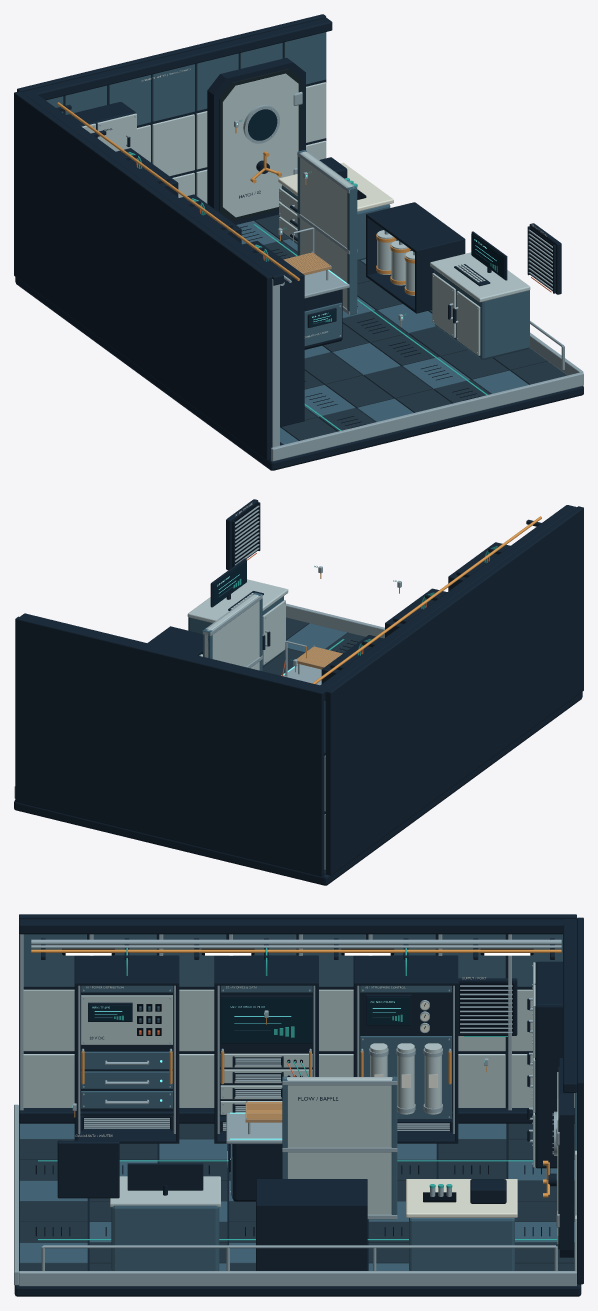
The model's file is crossflow.glb.
3 renders of one model, top to bottom at view 1: azimuth 30°, elevation 25°; view 2: azimuth 150°, elevation 25°; view 3: azimuth 270°, elevation 25°, orthographic. The views are drawn at different scales.
Parts seen in each view (by area): view 1: port_shell_backing, hatch_door, floor_substructure, front_cut_edge, flow_baffle_panel, aft_crown_rail, rack_sidewall, console_pedestal, hatch_outer_coaming, port_crown_rail, fluid_bay_end.001, aft_shell_backing (+52 smaller); view 2: aft_shell_backing, port_shell_backing, floor_substructure, port_crown_rail, flow_baffle_panel, aft_crown_rail, console_worktop, front_cut_edge, console_access_door.001, floor_tile.048, fluid_bay_end.001, longitudinal_service_conduit.002 (+7 smaller); view 3: flow_baffle_panel, starboard_cut_edge, port_crown_rail, floor_substructure, fluid_bay_back, console_pedestal, bench_cabinet, locker_shell, port_shell_backing, avionics_display_glass, vent_frame.001, longitudinal_service_conduit (+101 smaller).
Boxes of the visible parts, x1=… form: port_shell_backing: x1=14, y1=91, x2=272, y2=460; hatch_door: x1=222, y1=73, x2=298, y2=217; floor_substructure: x1=15, y1=221, x2=583, y2=470; front_cut_edge: x1=271, y1=372, x2=583, y2=461; flow_baffle_panel: x1=300, y1=151, x2=353, y2=308; aft_crown_rail: x1=21, y1=18, x2=332, y2=100; rack_sidewall: x1=280, y1=276, x2=304, y2=426; console_pedestal: x1=434, y1=269, x2=529, y2=359; hatch_outer_coaming: x1=207, y1=57, x2=305, y2=224; port_crown_rail: x1=22, y1=90, x2=283, y2=285; fluid_bay_end.001: x1=366, y1=202, x2=465, y2=252; aft_shell_backing: x1=17, y1=14, x2=326, y2=195; aft_shell_backing: x1=15, y1=616, x2=324, y2=876; port_shell_backing: x1=325, y1=506, x2=583, y2=875; floor_substructure: x1=14, y1=623, x2=582, y2=885; port_crown_rail: x1=316, y1=505, x2=576, y2=690; flow_baffle_panel: x1=204, y1=594, x2=259, y2=670; aft_crown_rail: x1=20, y1=613, x2=329, y2=700; console_worktop: x1=187, y1=579, x2=288, y2=622; front_cut_edge: x1=286, y1=603, x2=384, y2=638; console_access_door.001: x1=262, y1=600, x2=285, y2=664; floor_tile.048: x1=286, y1=623, x2=346, y2=652; fluid_bay_end.001: x1=147, y1=627, x2=202, y2=655; longitudinal_service_conduit.002: x1=312, y1=516, x2=541, y2=683; flow_baffle_panel: x1=284, y1=1077, x2=392, y2=1214; starboard_cut_edge: x1=19, y1=1271, x2=576, y2=1286; port_crown_rail: x1=19, y1=919, x2=576, y2=934; floor_substructure: x1=14, y1=1123, x2=581, y2=1296; fluid_bay_back: x1=257, y1=1203, x2=366, y2=1270; console_pedestal: x1=111, y1=1205, x2=219, y2=1270; bench_cabinet: x1=409, y1=1218, x2=514, y2=1270; locker_shell: x1=535, y1=961, x2=562, y2=1168; port_shell_backing: x1=19, y1=914, x2=576, y2=1108; avionics_display_glass: x1=222, y1=998, x2=310, y2=1042; vent_frame.001: x1=57, y1=1140, x2=119, y2=1198; longitudinal_service_conduit: x1=31, y1=939, x2=561, y2=945.
Bounding box in the file's own units: 5.78 × 3.38 × 8.17.
